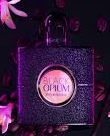ysl_black_opium: (14, 14, 96, 127)
